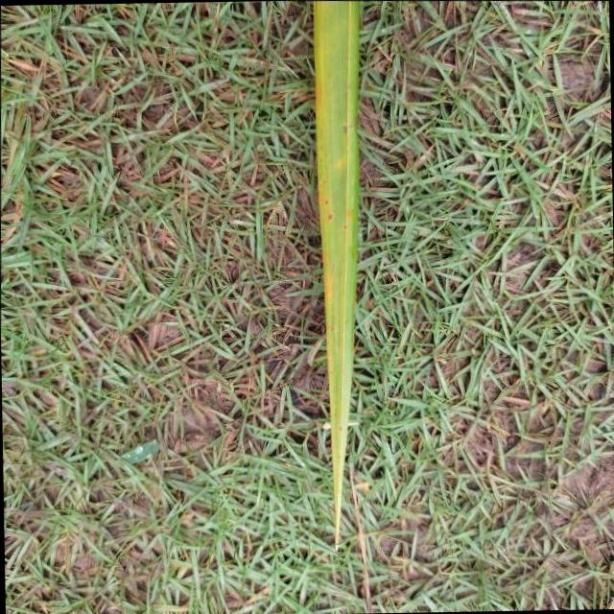nitrogen: (309, 0, 363, 571)
